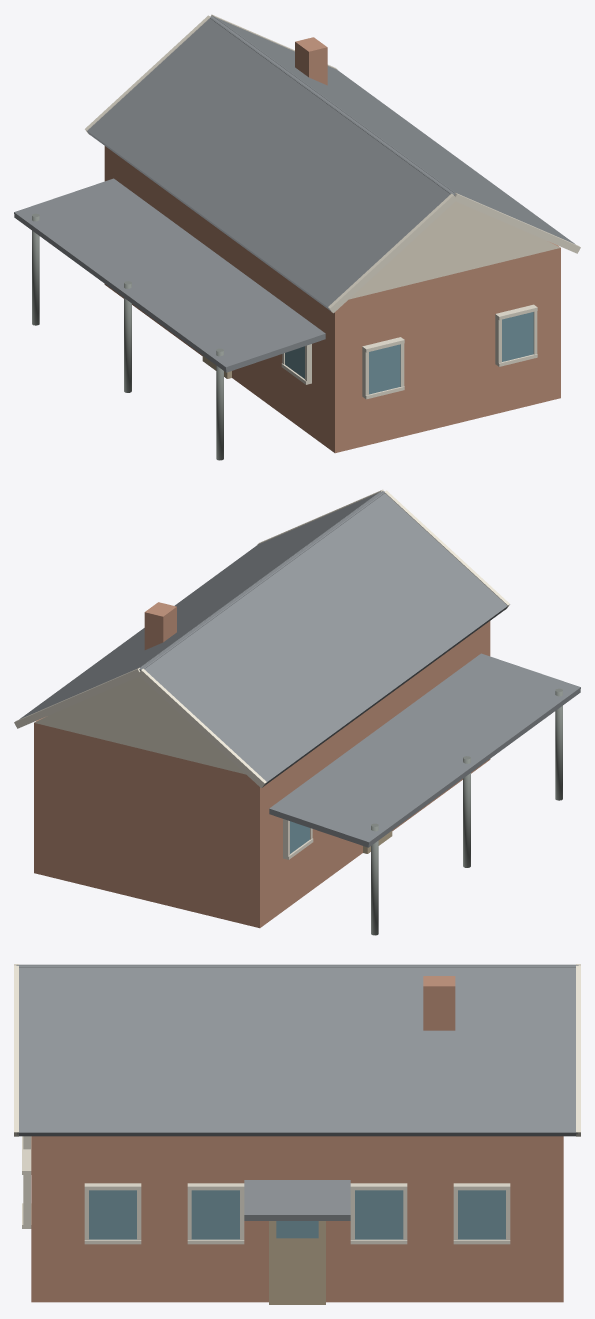
File: rhine-station-interwar_lod1.glb
3 views of the same model, one above another, from view 1: azimuth 30°, elevation 25°; view 2: azimuth 150°, elevation 25°; view 3: azimuth 270°, elevation 25° (orthographic). The views are drawn at different scales.
Parts seen in each view (by area): view 1: RF_Roof.001, RF_Station_Body, RF_PlatformCanopy, RF_Roof, RF_Gable, RF_Vergeband.001, RF_Ridge, RF_Window.009, RF_Window, RF_StationChimney, RF_Vergeband.003, RF_CanopyColumn.001 (+3 smaller); view 2: RF_Roof.001, RF_Station_Body, RF_PlatformCanopy, RF_Roof, RF_Gable.001, RF_Vergeband.002, RF_Ridge, RF_StationChimney, RF_Vergeband, RF_CanopyColumn, RF_CanopyColumn.001, RF_CanopyColumn.002 (+1 smaller); view 3: RF_Roof, RF_Station_Body, RF_PublicAwning, RF_Station_Door, RF_Window.006, RF_Window.007, RF_Window.005, RF_Window.008, RF_StationChimney, RF_Ridge, RF_Roof.001, RF_Vergeband.003 (+6 smaller).
Boxes of the visible parts, <box> form: RF_Roof.001: <box>87,17,451,311</box>; RF_Station_Body: <box>104,146,560,453</box>; RF_PlatformCanopy: <box>14,178,325,372</box>; RF_Roof: <box>213,16,575,244</box>; RF_Gable: <box>349,201,560,299</box>; RF_Vergeband.001: <box>328,193,456,313</box>; RF_Ridge: <box>210,16,455,195</box>; RF_Window.009: <box>369,344,400,394</box>; RF_Window: <box>502,312,533,361</box>; RF_StationChimney: <box>295,37,327,85</box>; RF_Vergeband.003: <box>454,192,580,253</box>; RF_CanopyColumn.001: <box>216,348,223,460</box>; RF_Roof.001: <box>143,492,507,786</box>; RF_Station_Body: <box>34,621,490,928</box>; RF_PlatformCanopy: <box>269,653,580,847</box>; RF_Roof: <box>19,491,381,719</box>; RF_Gable.001: <box>34,676,245,774</box>; RF_Vergeband.002: <box>138,668,266,788</box>; RF_Ridge: <box>139,491,384,670</box>; RF_StationChimney: <box>144,602,176,649</box>; RF_Vergeband: <box>14,667,140,728</box>; RF_CanopyColumn: <box>371,823,378,935</box>; RF_CanopyColumn.001: <box>555,688,562,800</box>; RF_CanopyColumn.002: <box>463,756,470,867</box>; RF_Roof: <box>17,966,577,1136</box>; RF_Station_Body: <box>31,1136,563,1302</box>; RF_PublicAwning: <box>244,1180,350,1220</box>; RF_Station_Door: <box>269,1221,325,1304</box>; RF_Window.006: <box>191,1190,239,1239</box>; RF_Window.007: <box>355,1190,403,1239</box>; RF_Window.005: <box>89,1190,136,1239</box>; RF_Window.008: <box>458,1190,505,1239</box>; RF_StationChimney: <box>423,976,455,1030</box>; RF_Ridge: <box>16,965,578,967</box>; RF_Roof.001: <box>19,964,575,965</box>; RF_Vergeband.003: <box>14,966,18,1136</box>.
Size of the model in its own units: 14.11 by 8.7 by 15.98.
